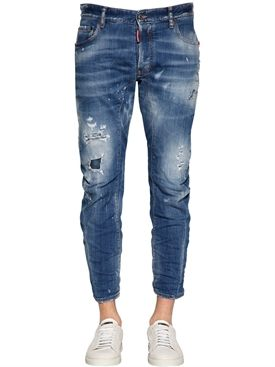Jeans: (65, 2, 206, 303)
